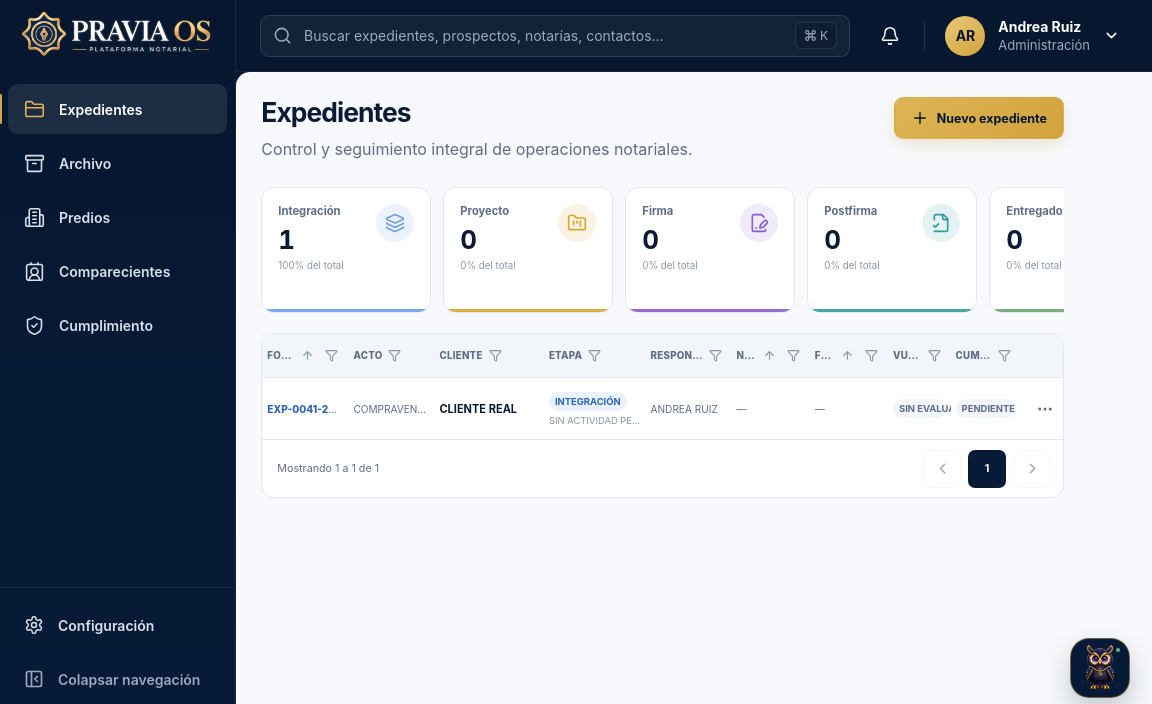
Test: Expedientes › abre la ficha desde toda la fila y conserva aislado el control interno
Click the text "Compraventa": (391, 408) [348,377,434,439]
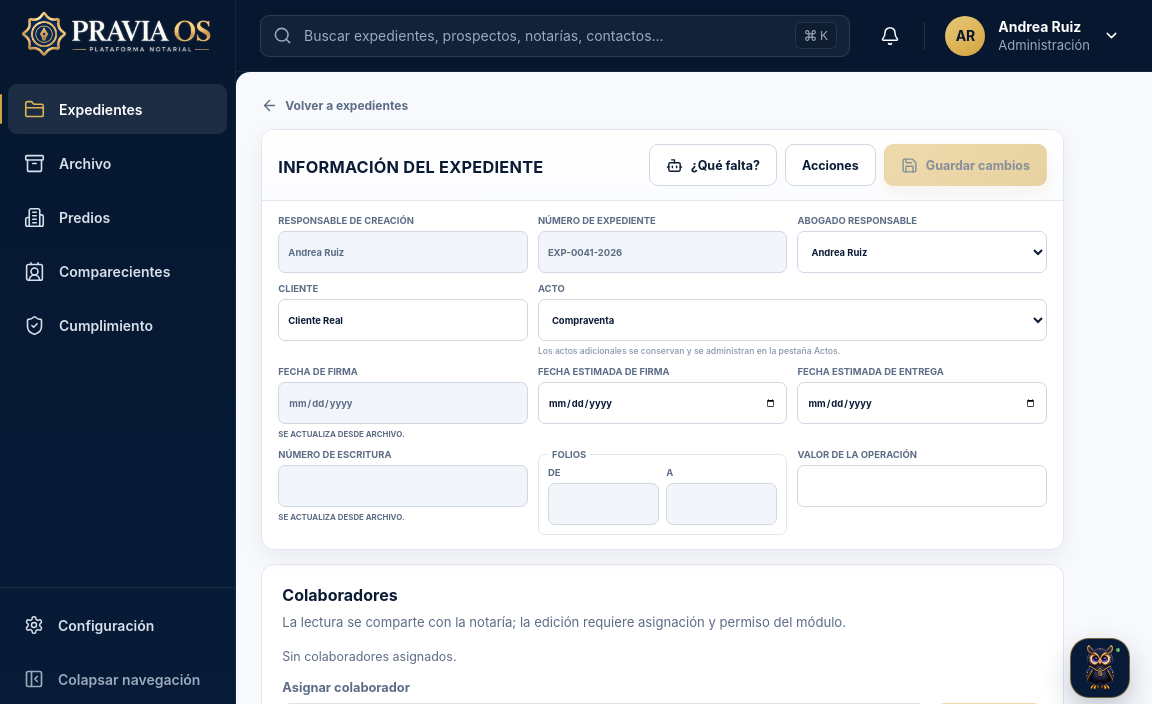
Result: the heading "Información del expediente" is shown at [278,157,544,177]
